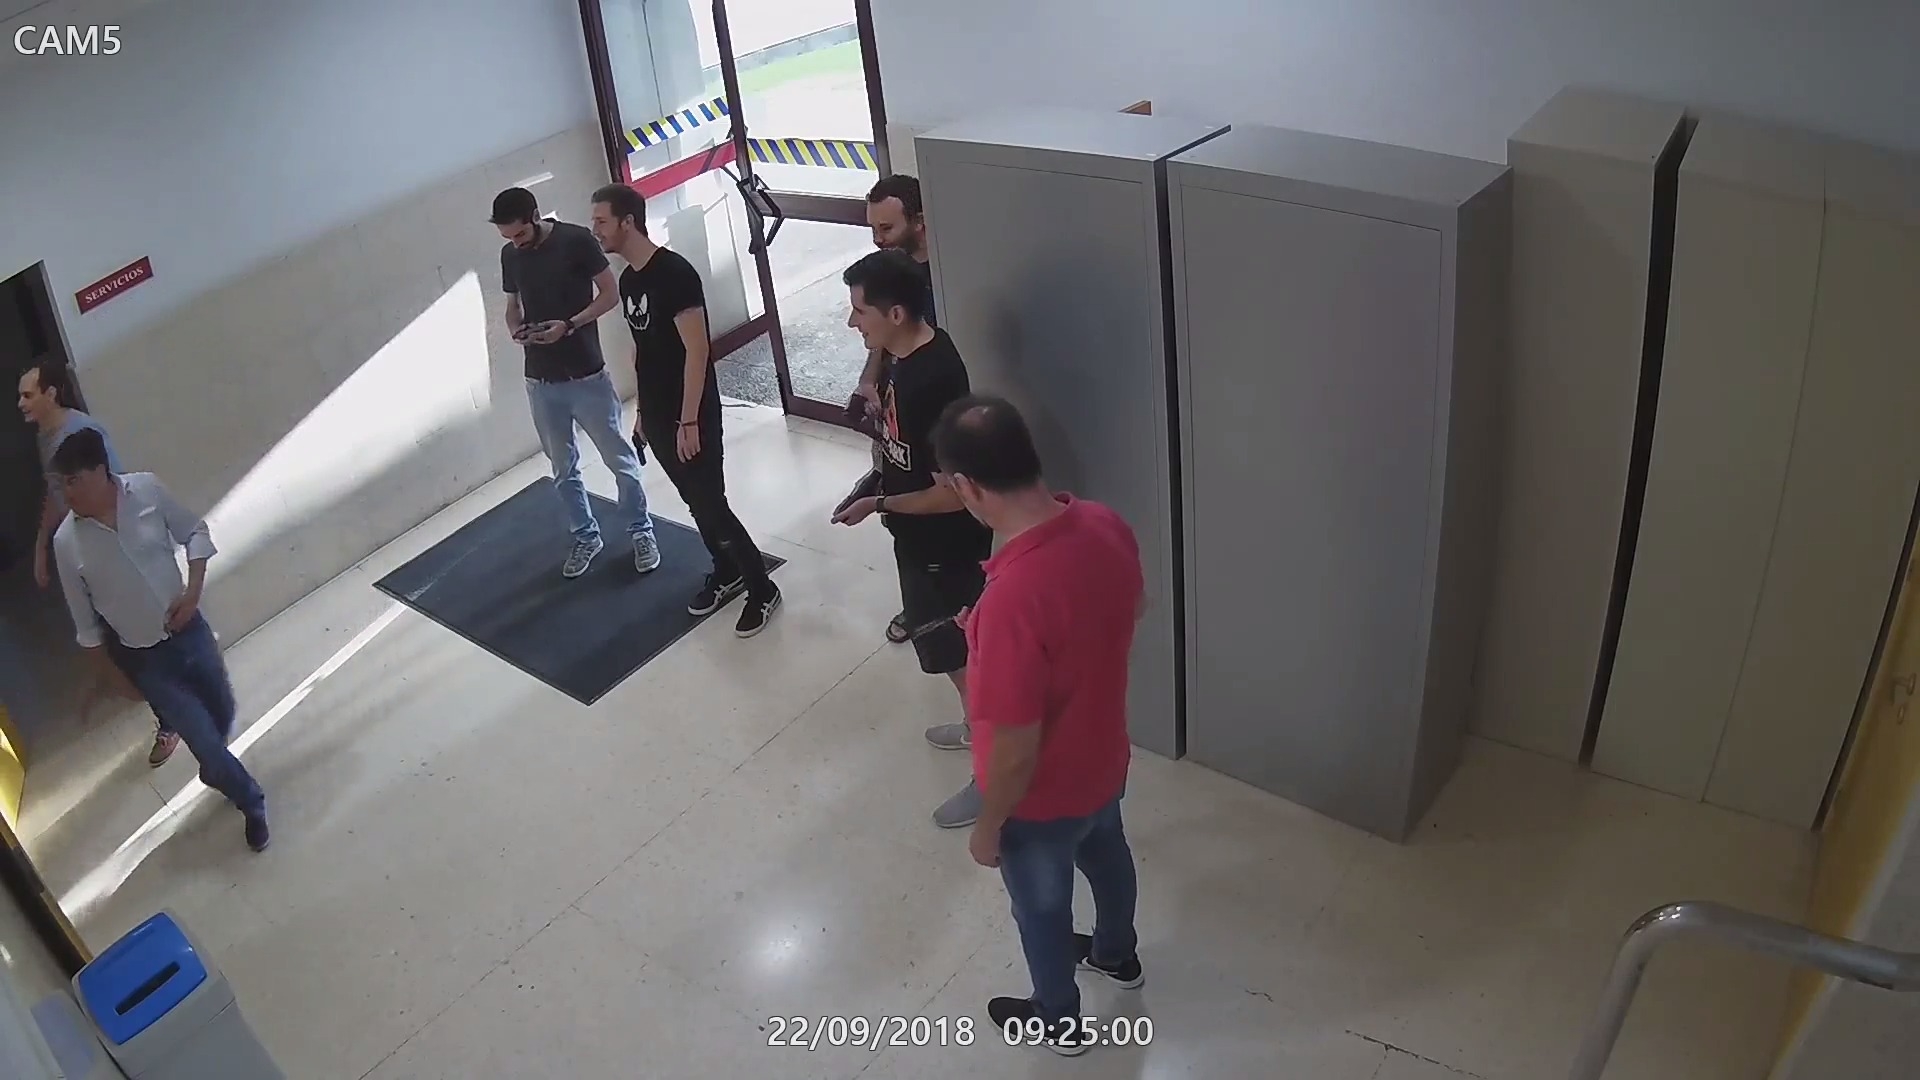Handgun: (893, 589, 986, 645), (829, 467, 884, 541), (506, 313, 564, 356), (98, 632, 148, 680), (843, 380, 887, 433), (626, 415, 662, 481)
